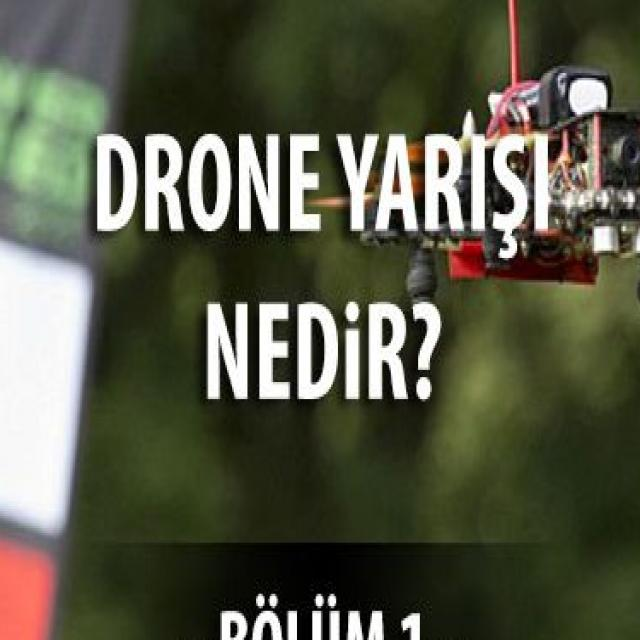drone: (275, 102, 640, 297)
